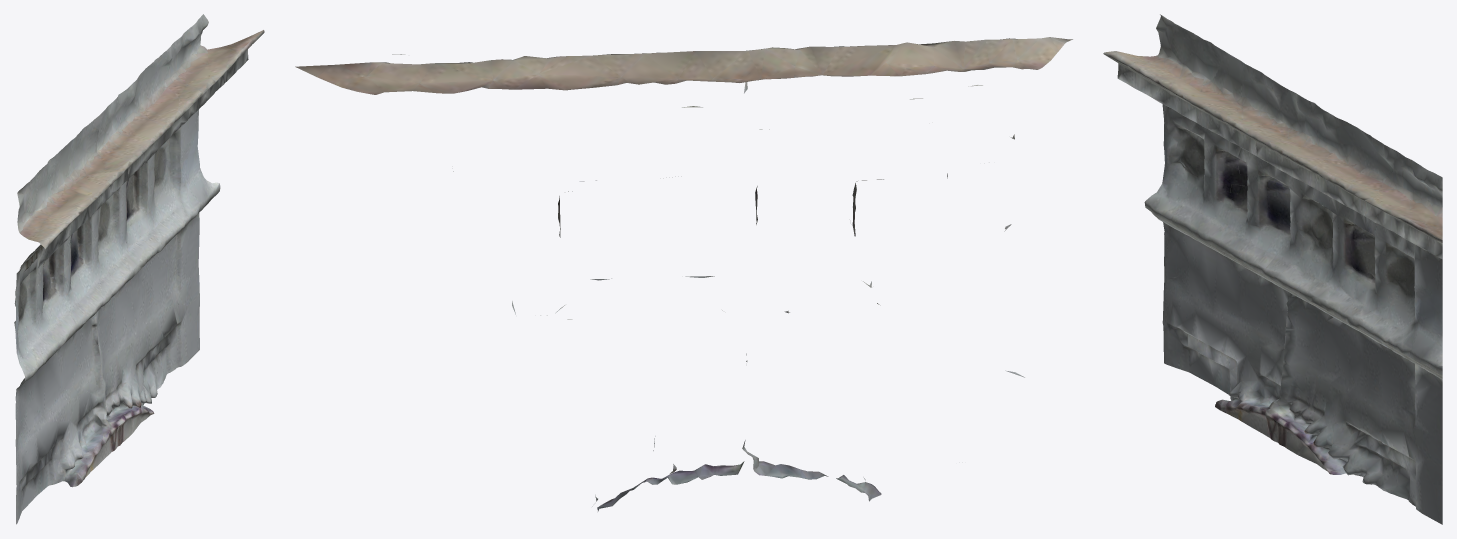
3 views of the same model, side by side, from view 1: azimuth 30°, elevation 25°; view 2: azimuth 150°, elevation 25°; view 3: azimuth 270°, elevation 25° (orthographic). The views are drawn at different scales.
Size of the model in its own units: 7.87 by 6.58 by 5.8.
1 material, 1 textured.
